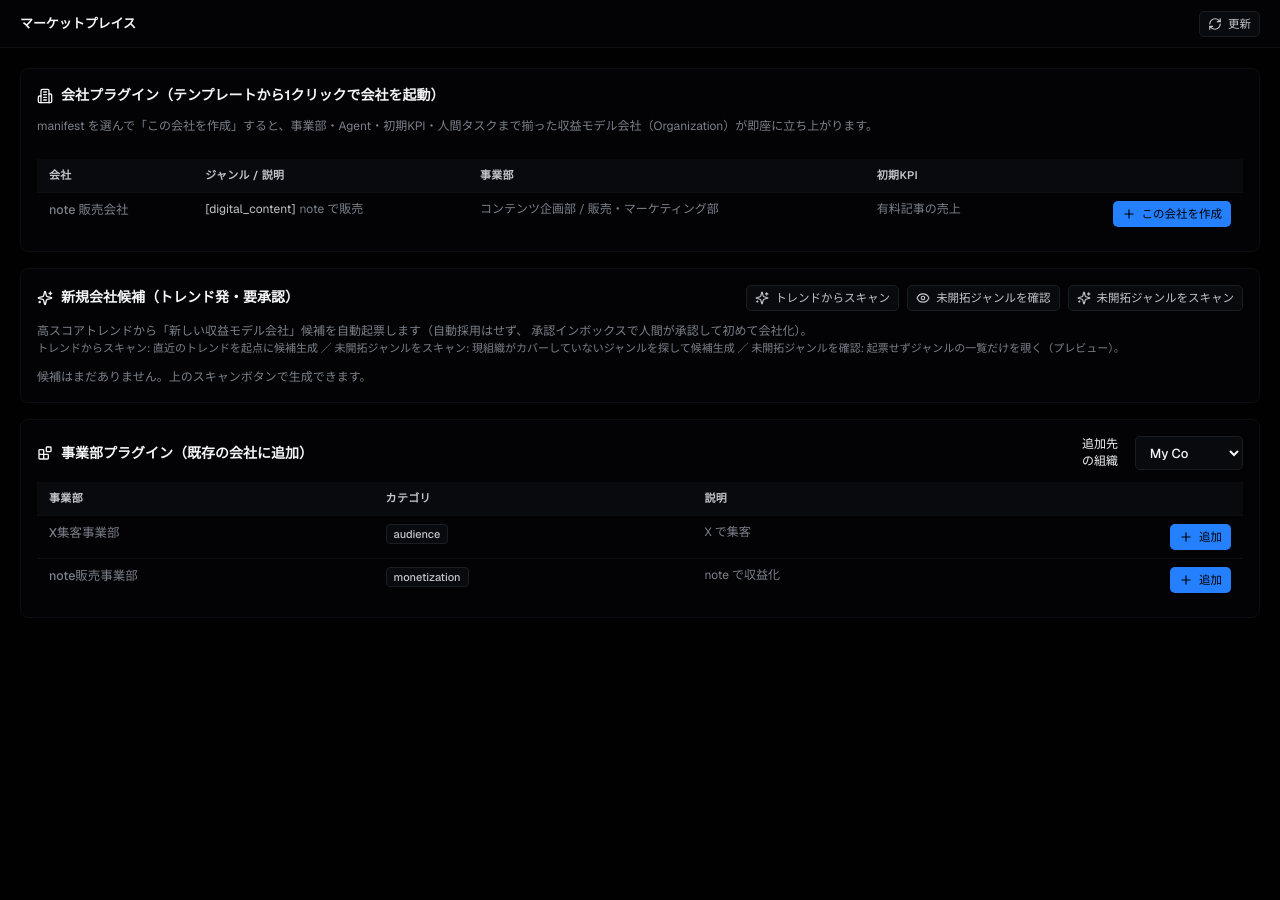
Test case: 未開拓ジャンルが0件のときプレビューで空状態メッセージを表示する
What coordinates should you click on to do the following:
click the button "未開拓ジャンルを確認"
I would click on:
 (983, 298)
Its box is [907,285,1060,311].
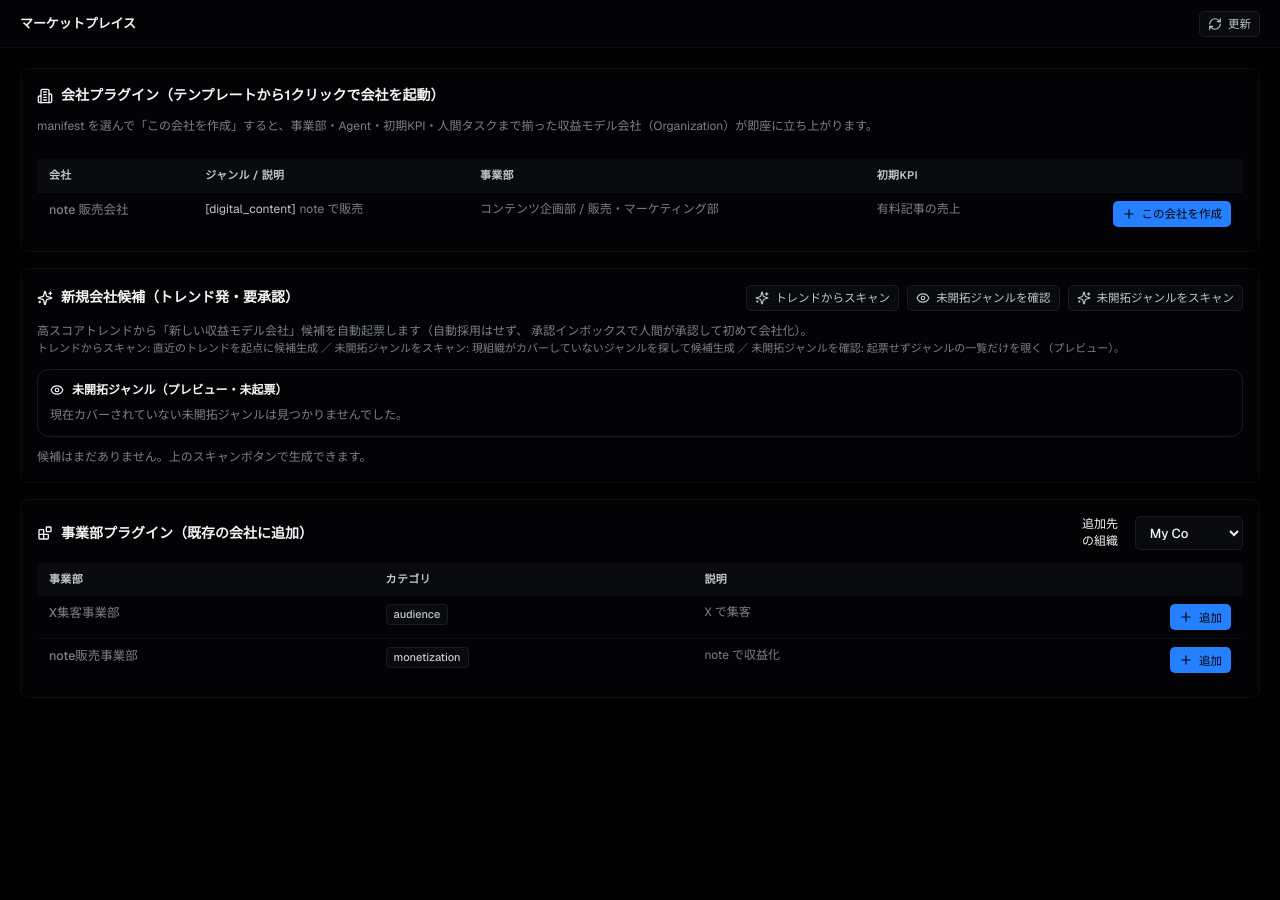
Result: the text "現在カバーされていない未開拓ジャンルは見つかりませんでした。" is shown at [50,407,408,423]
